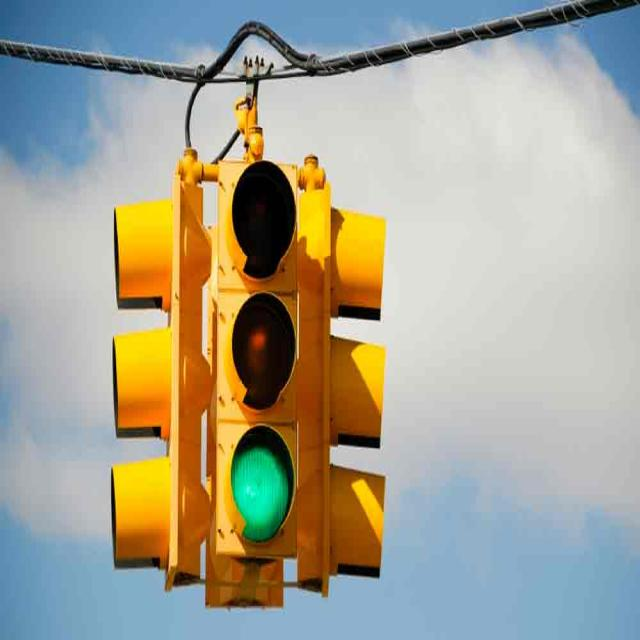green: (221, 427, 299, 539)
